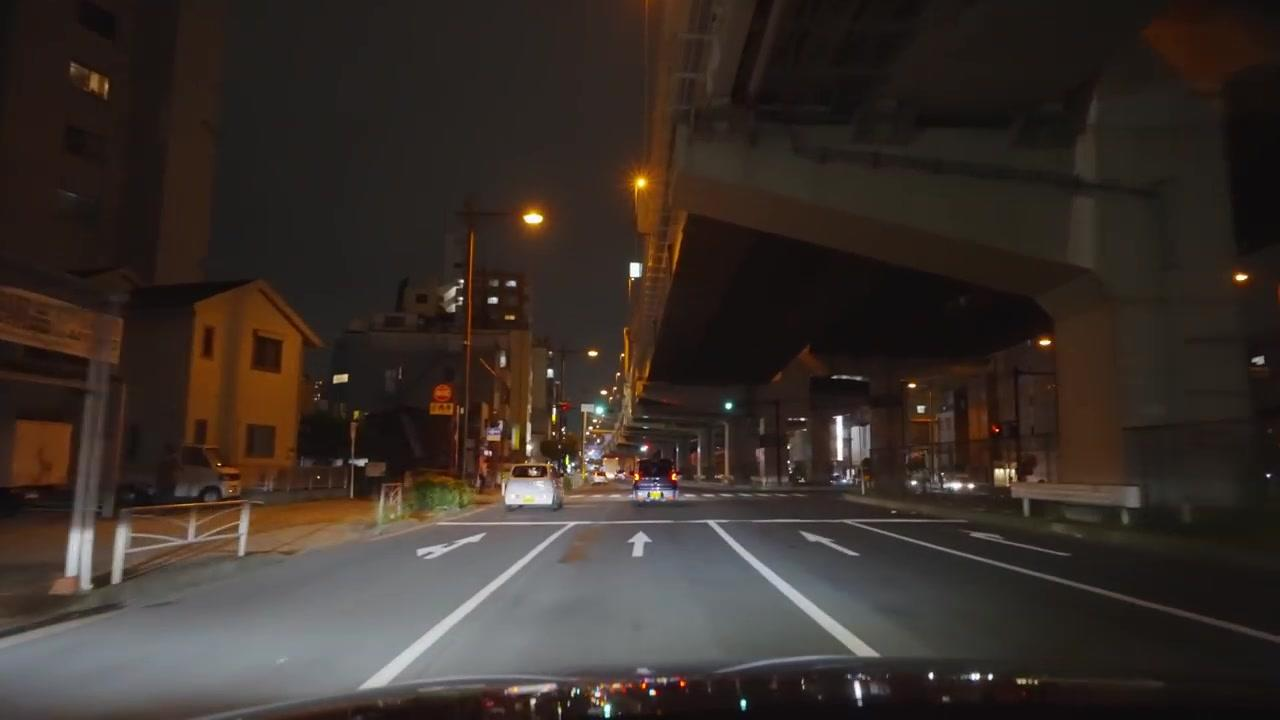car: (503, 463, 564, 513), (629, 470, 676, 509)
traffic light: (989, 423, 1001, 437)
truck: (117, 444, 243, 503)
